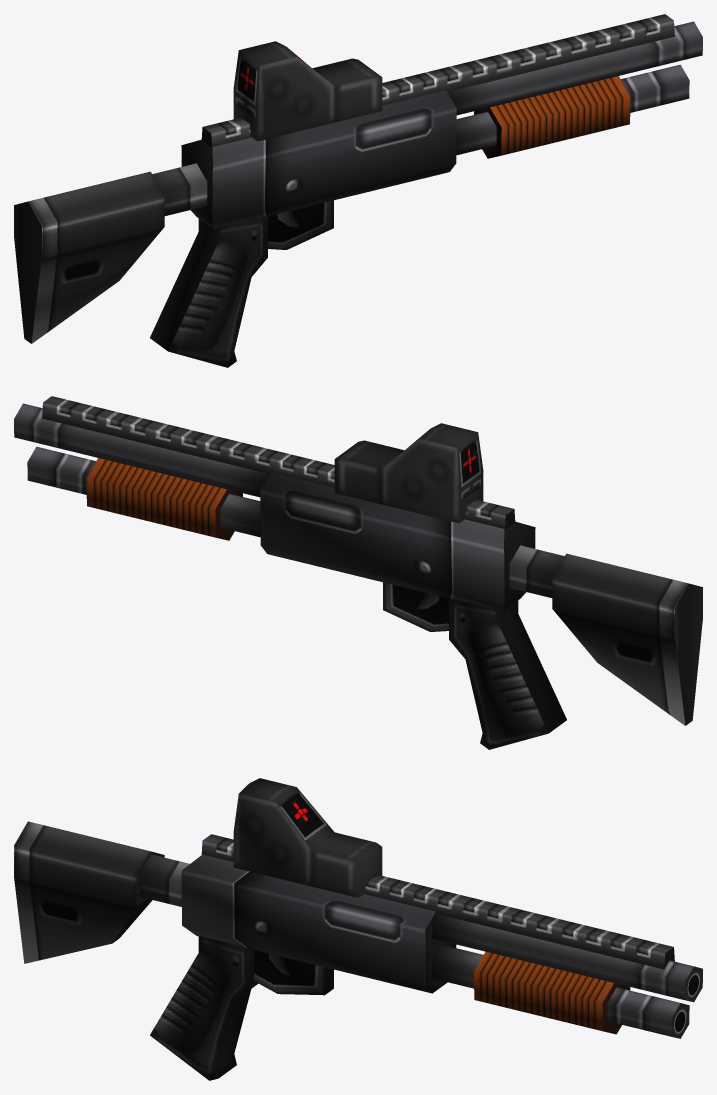
The model's file is shotgun m3 lv2.FBX.
3 renders of one model, top to bottom at view 1: azimuth 30°, elevation 25°; view 2: azimuth 150°, elevation 25°; view 3: azimuth 330°, elevation 25°, orthographic.
Parts seen in each view (by area): view 1: Object078; view 2: Object078; view 3: Object078.
Boxes of the visible parts, bbox=[...] form: Object078: bbox=[14, 14, 702, 367]; Object078: bbox=[14, 396, 702, 749]; Object078: bbox=[14, 778, 702, 1080].
Bounding box in the file's own units: 75.57 × 32.34 × 6.17.
